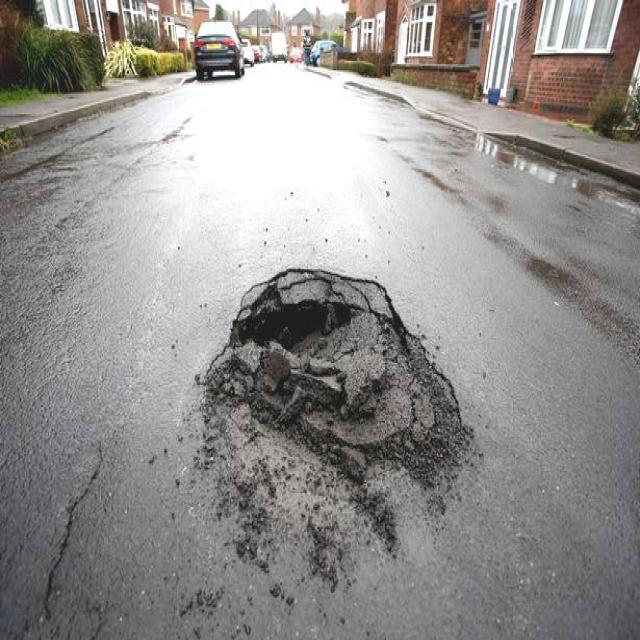pothole: (207, 268, 468, 516)
